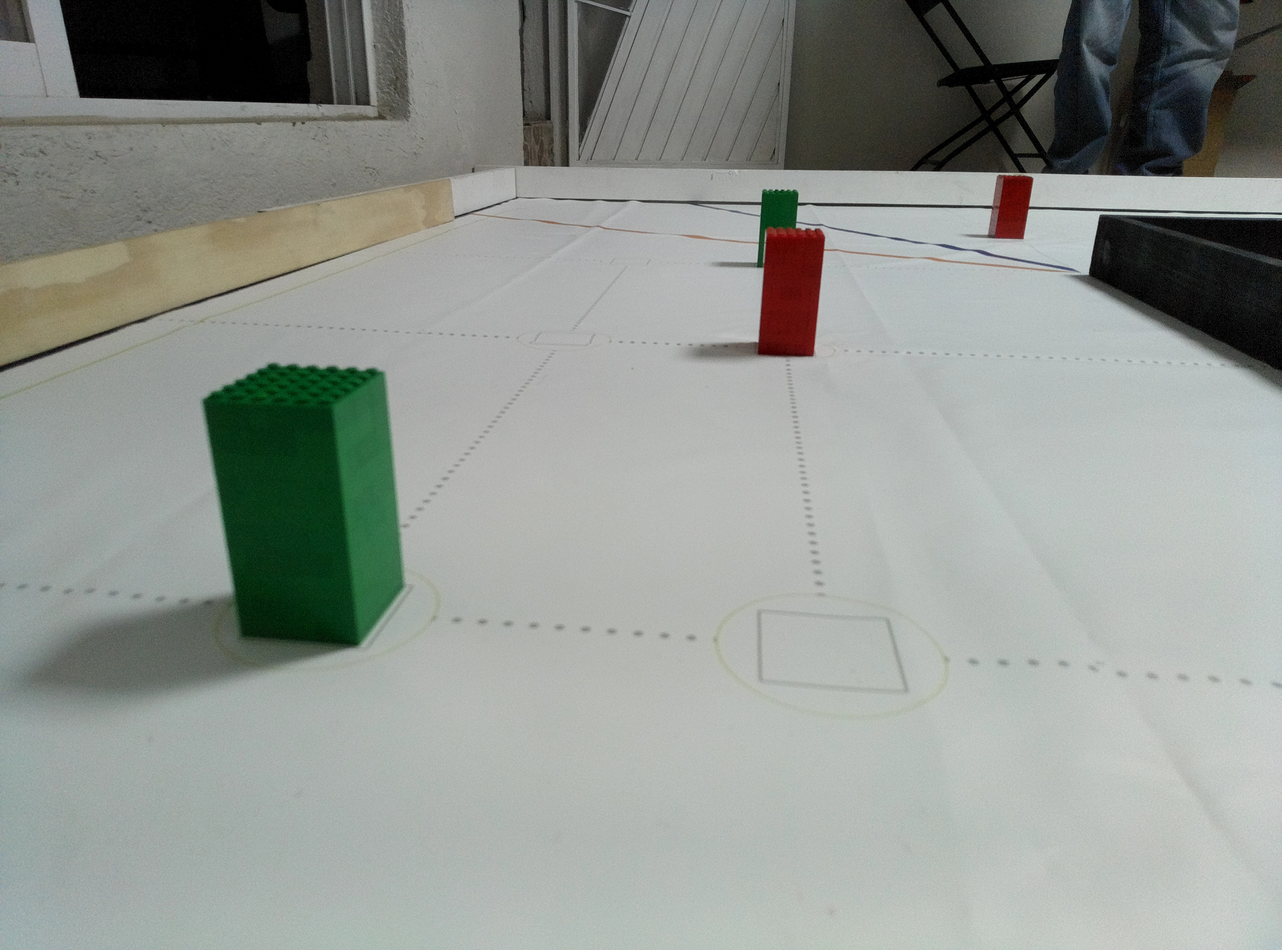greenbox: (199, 358, 410, 650), (759, 188, 799, 229), (755, 227, 765, 268)
redbox: (757, 227, 827, 359), (987, 175, 1033, 240)
